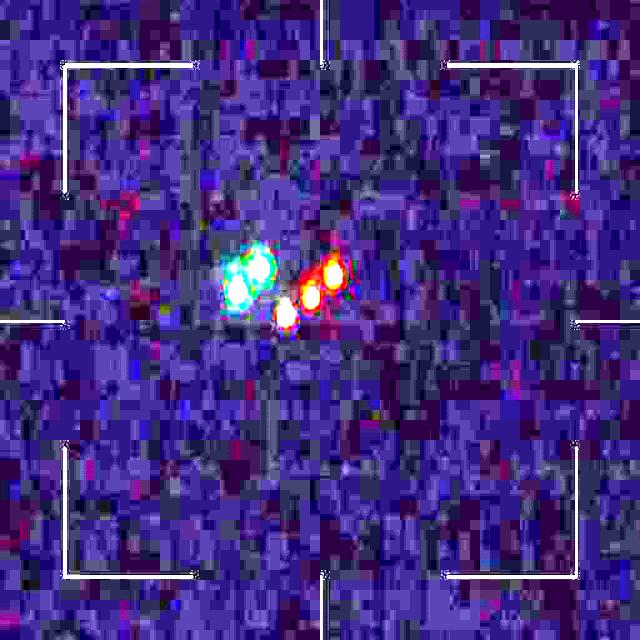bird: (229, 255, 342, 321)
